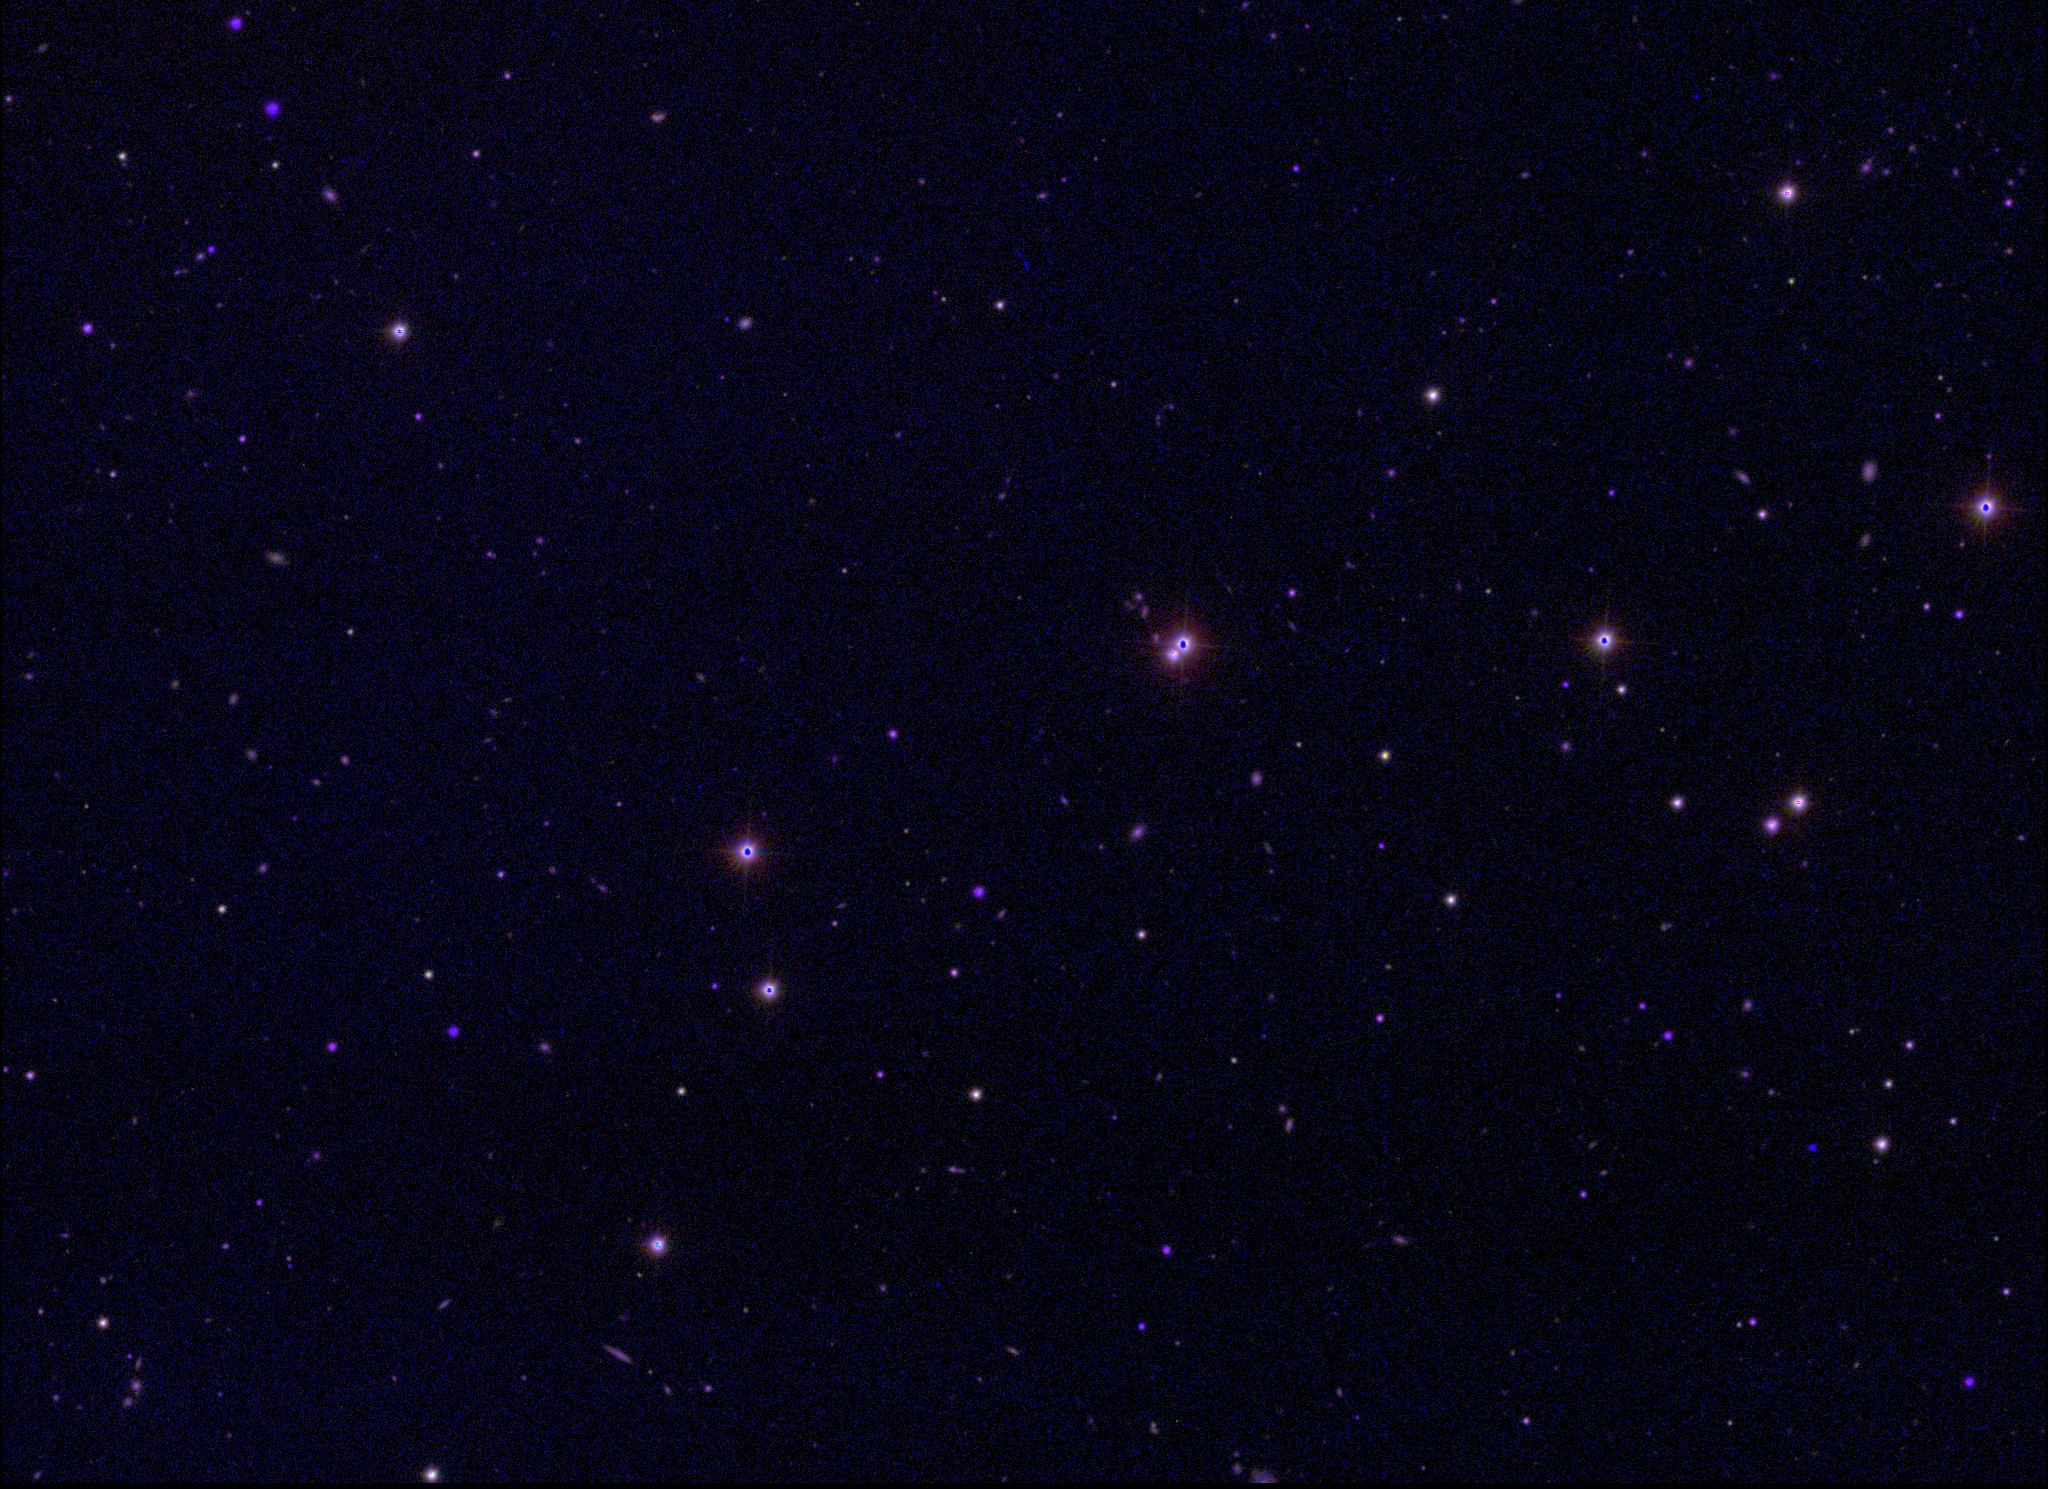L: (1805, 1141, 1819, 1155)
